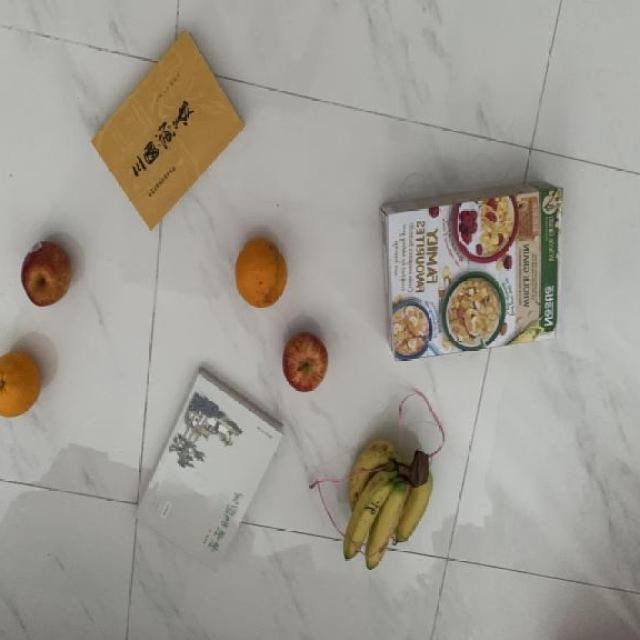Apple: (11, 226, 81, 313), (277, 323, 337, 398)
Banana: (333, 431, 439, 578)
Book: (85, 27, 250, 242), (130, 368, 287, 574)
Cerealbox: (376, 160, 572, 376)
Orange: (229, 232, 294, 313), (0, 342, 49, 422)
